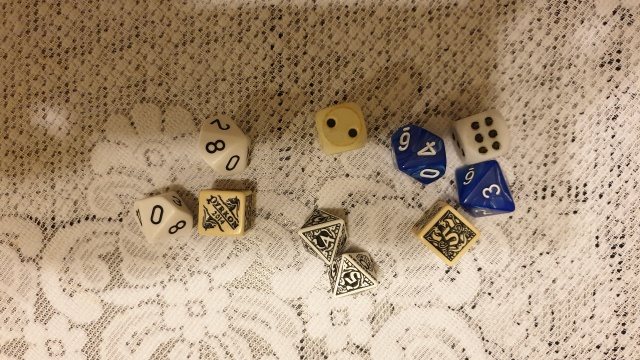d10-10: (125, 184, 197, 248)
d10-3: (454, 159, 517, 221)
d10-4: (386, 117, 448, 192)
d10-8: (192, 109, 253, 182)
d6-2: (310, 98, 369, 154)
d6-6: (448, 104, 510, 163)
d6p-1: (193, 186, 258, 240)
d6p-5: (412, 202, 483, 267)
d8p-4: (292, 206, 346, 267)
d8p-5: (326, 250, 379, 301)
